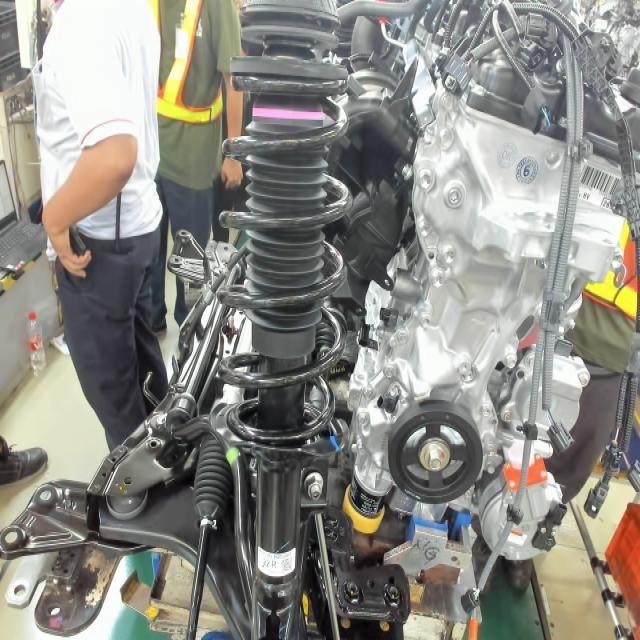Absorber RH-22: (261, 552, 295, 570)
Bar Stabilizer-HJ: (222, 439, 244, 466)
Bumper-PK: (250, 101, 326, 129)
